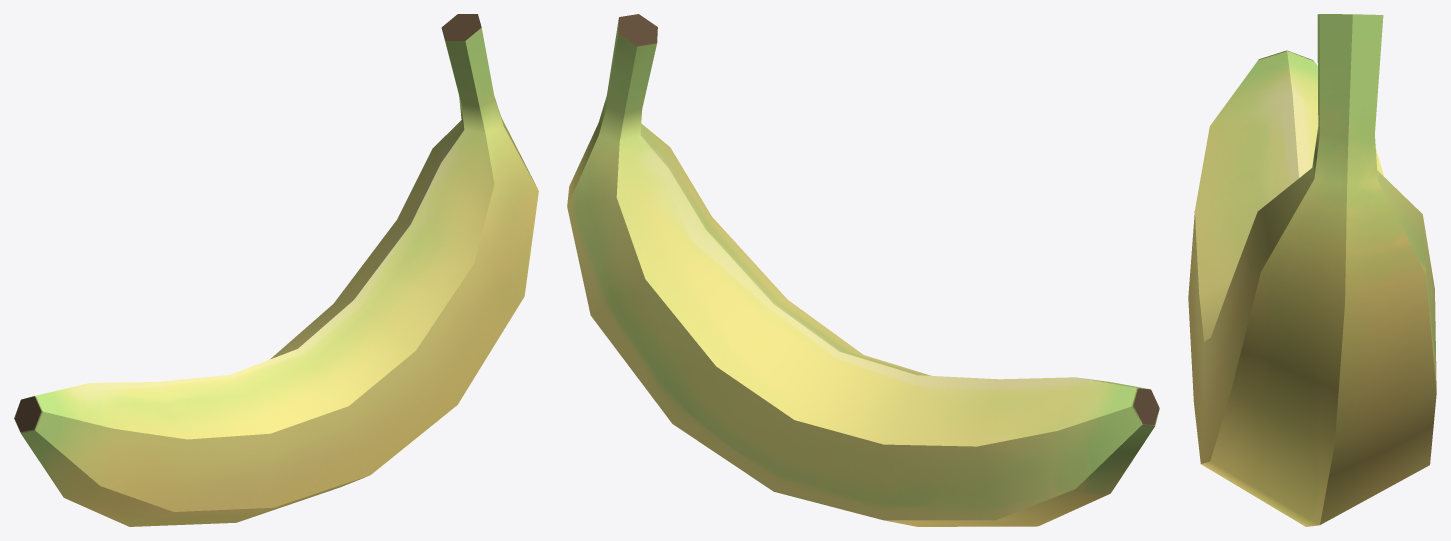
The model's file is banana.fbx.
The picture shows the model from 3 angles, left to right: view 1: azimuth 30°, elevation 25°; view 2: azimuth 150°, elevation 25°; view 3: azimuth 270°, elevation 25°; orthographic projection. The views are drawn at different scales.
Visible parts, largest first — view 1: banana1; view 2: banana1; view 3: banana1.
Part boxes in pixels (left/top/right/bottom): banana1: left=14, top=14, right=538, bottom=526; banana1: left=567, top=14, right=1159, bottom=526; banana1: left=1188, top=14, right=1436, bottom=526.
Size of the model in its own units: 1.11 by 0.8608 by 0.3069.
